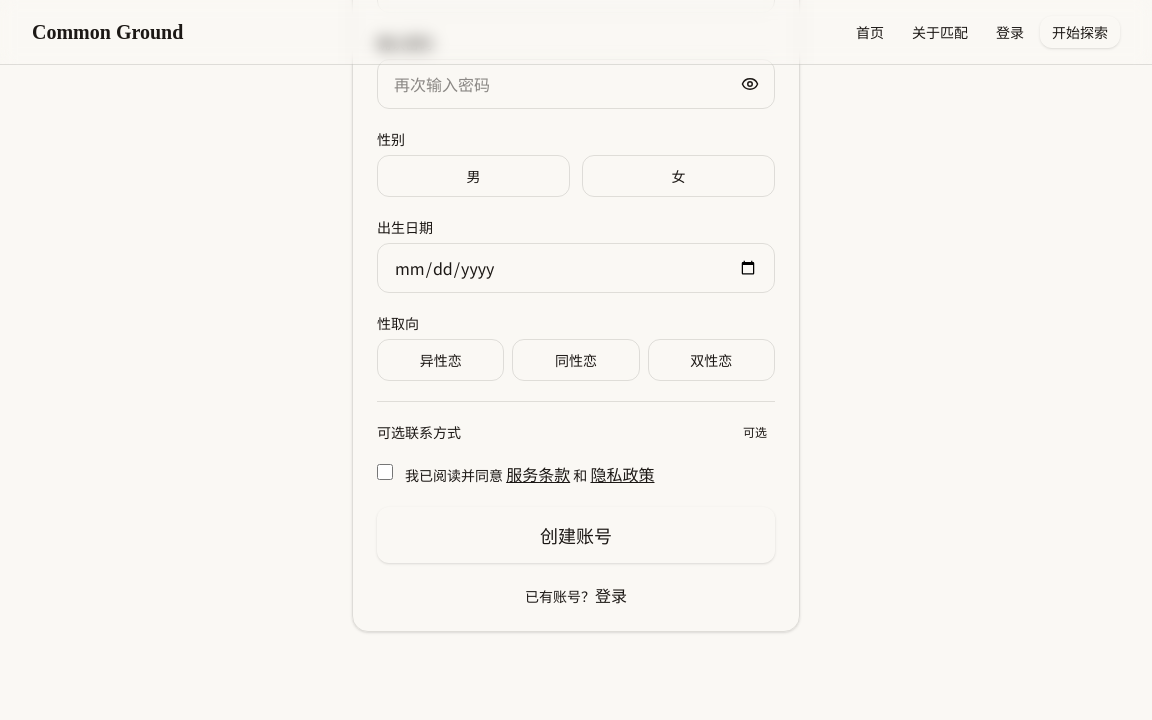
it: register page › only asks bisexual users which gender to match this round
(page scrolled)
Expected: the date field labelled "出生日期" is shown, [377,243,775,293]
Expected: the text "本轮希望匹配" is not shown
Click the button "双性恋" at (711, 360), box [648,339,775,381]
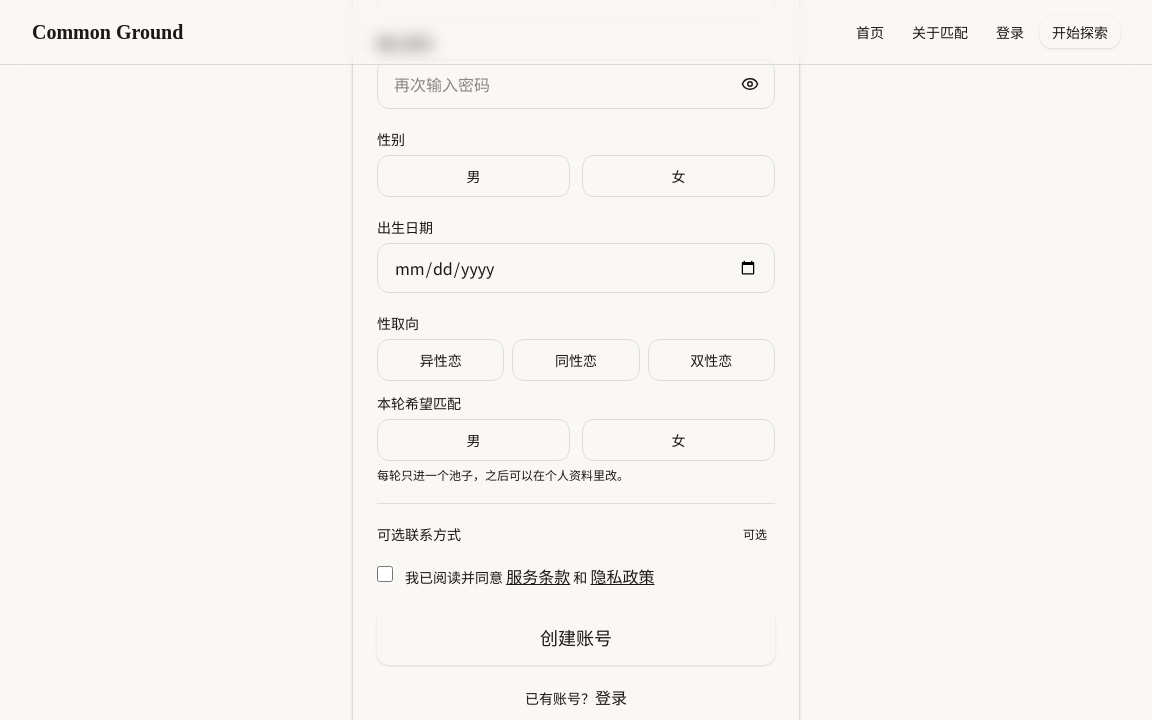
Result: the text "本轮希望匹配" is shown at [377,393,461,413]
